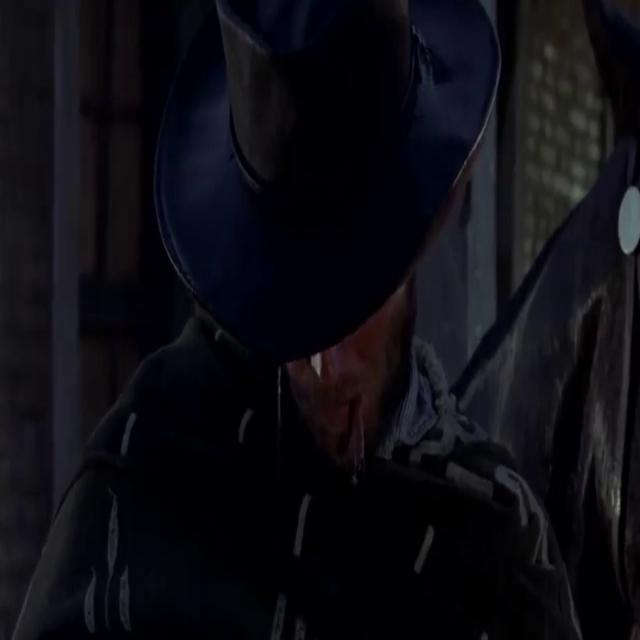Smooking: (348, 390, 373, 470)
